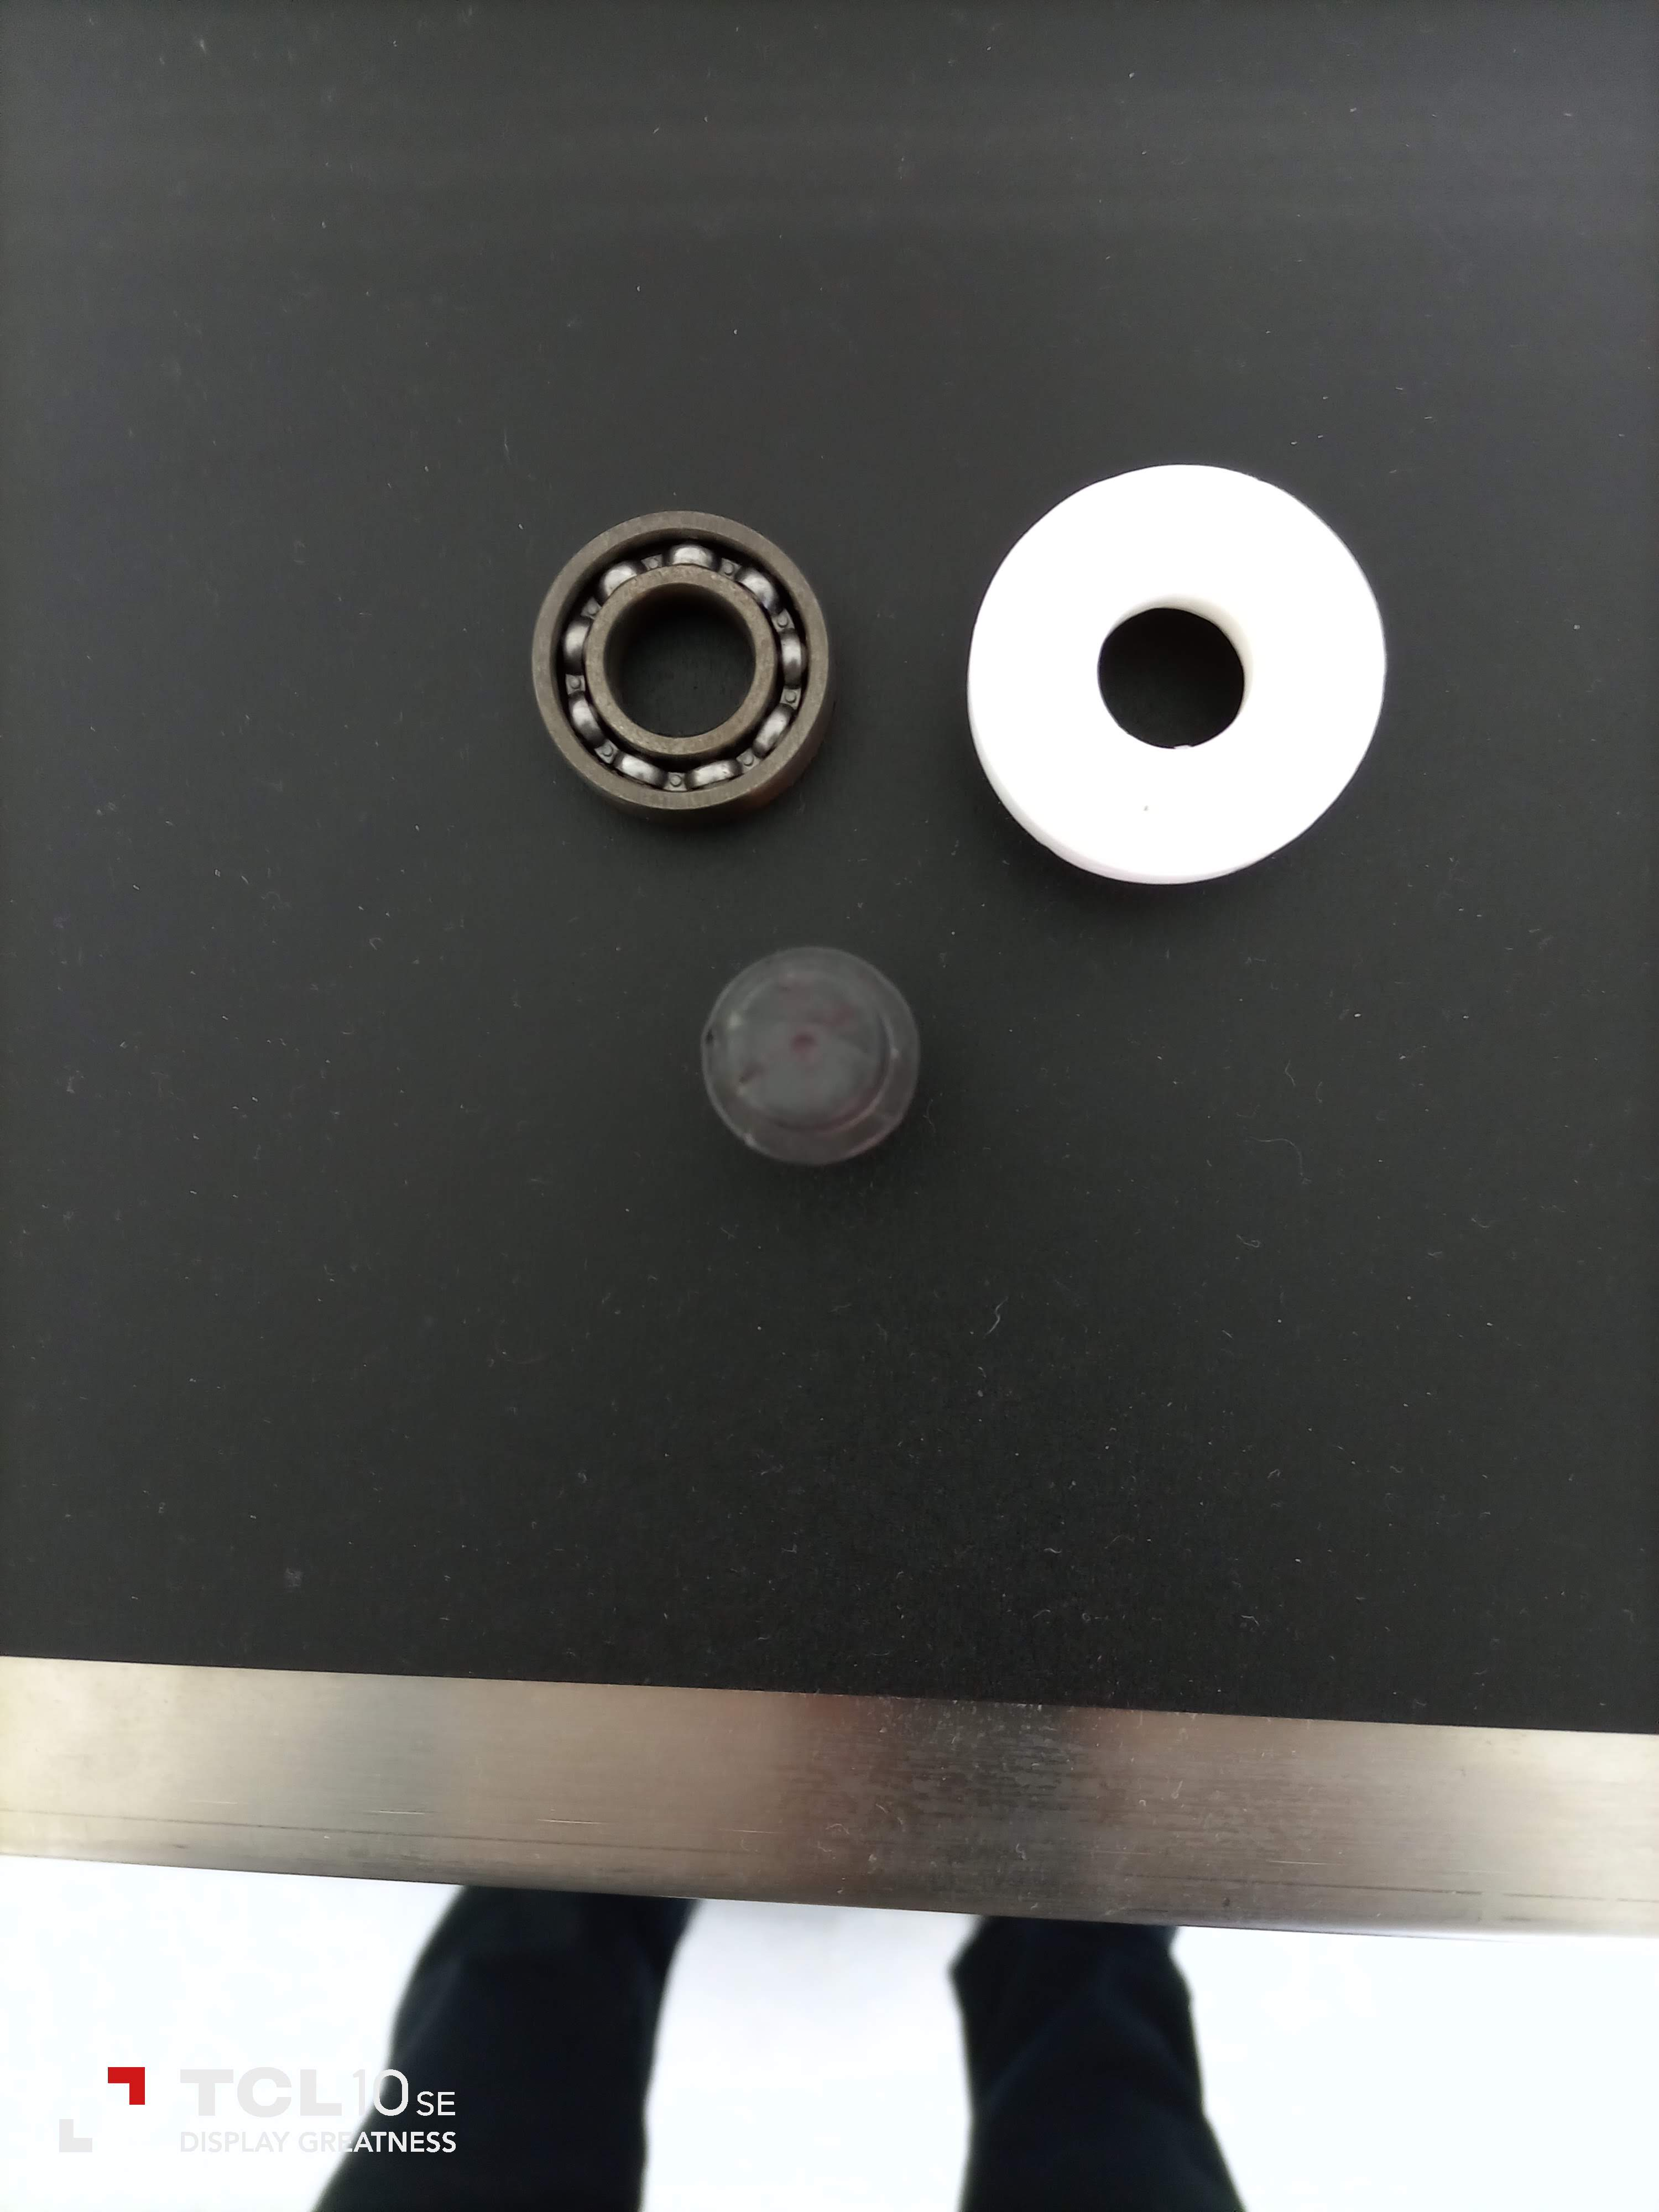Ardatza: (688, 928, 925, 1165)
Roda: (535, 512, 826, 819)
Tapa: (951, 449, 1394, 888)
